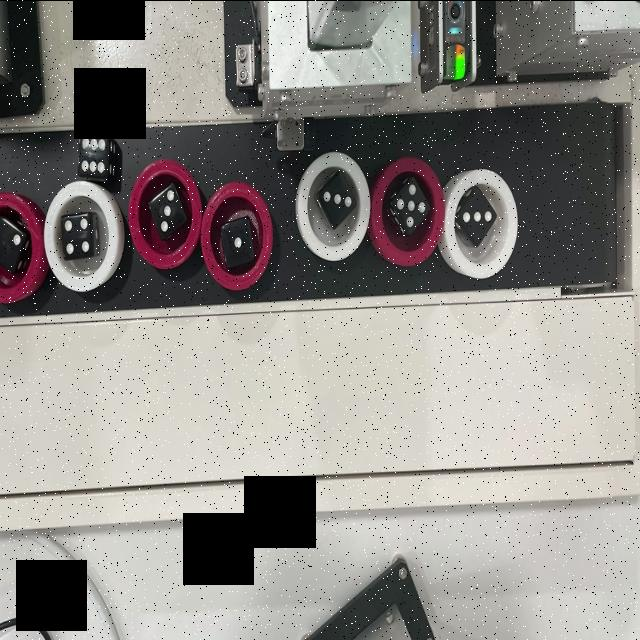DICE1: (223, 223, 250, 259)
DICE2: (0, 227, 22, 266)
DICE3: (459, 196, 493, 236), (323, 177, 351, 225), (156, 188, 186, 232)
DICE4: (59, 212, 92, 260)
DICE5: (396, 178, 426, 226)
DICE6: (73, 126, 113, 182)
RedChip: (130, 156, 200, 270), (202, 182, 274, 290), (372, 157, 444, 263), (0, 193, 42, 300)
WhiteChip: (295, 147, 371, 258), (42, 182, 119, 290), (447, 167, 518, 277)
